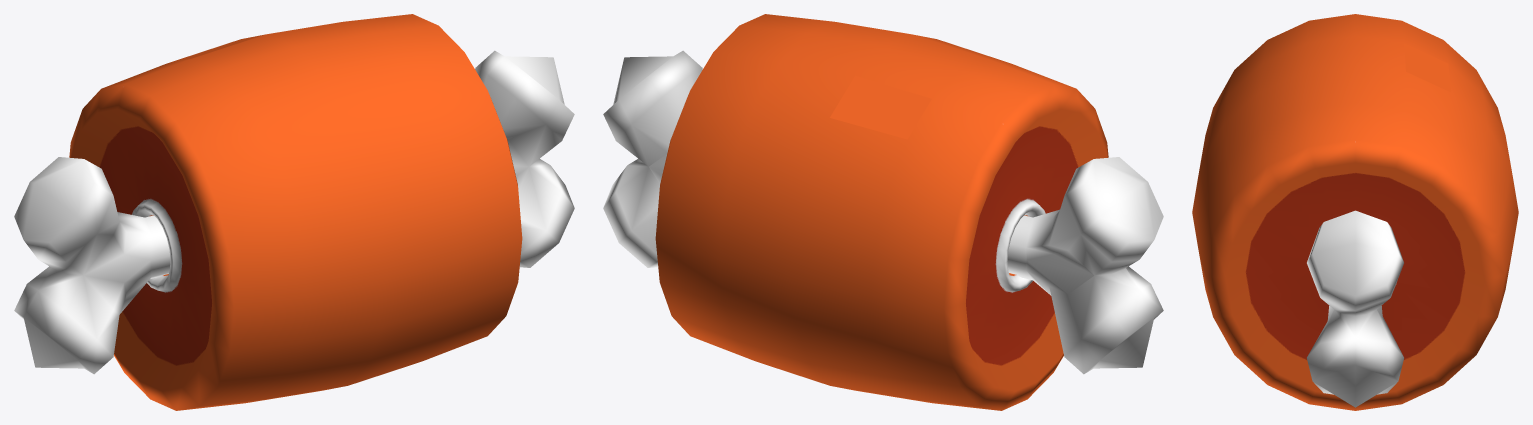
The model's file is Meat (2).fbx.
3 renders of one model, left to right at view 1: azimuth 30°, elevation 25°; view 2: azimuth 150°, elevation 25°; view 3: azimuth 270°, elevation 25°, orthographic. The views are drawn at different scales.
Parts seen in each view (by area): view 1: group2pCylinder14, group2polySurface223; view 2: group2pCylinder14, group2polySurface223; view 3: group2pCylinder14, group2polySurface223.
Boxes of the visible parts, x1,y1,x2,y2 form: group2pCylinder14: [69, 14, 522, 410]; group2polySurface223: [14, 50, 574, 374]; group2pCylinder14: [655, 14, 1108, 410]; group2polySurface223: [603, 50, 1163, 374]; group2pCylinder14: [1192, 14, 1518, 410]; group2polySurface223: [1307, 210, 1403, 407].
Bounding box in the file's own units: 85.74 × 50.08 × 50.08.
Materials: 1 (1 with a texture image).
